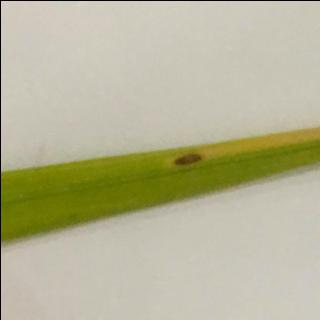Blast: (164, 139, 215, 182)
